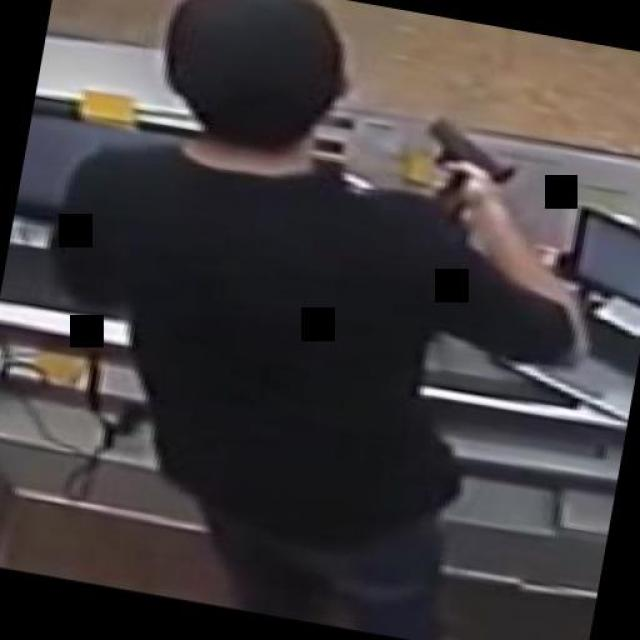gun: (401, 104, 529, 218)
